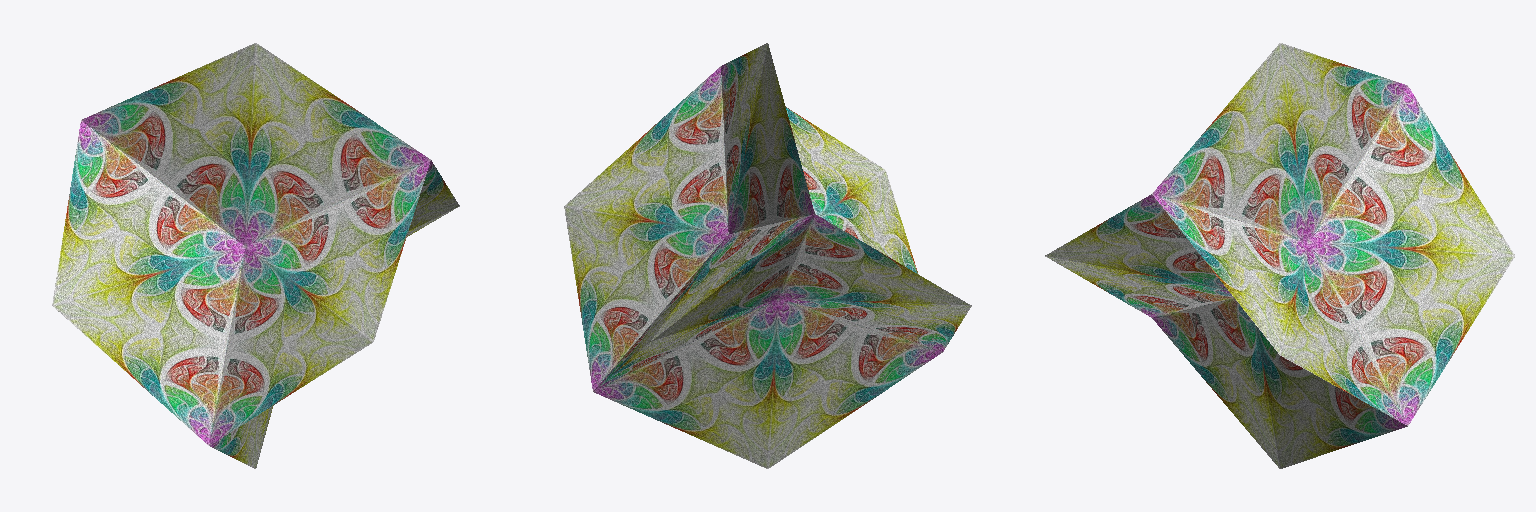
The picture shows the model from 3 angles: view 1: azimuth 30°, elevation 25°; view 2: azimuth 150°, elevation 25°; view 3: azimuth 270°, elevation 25°; orthographic projection.
Bounding box in the file's own units: 2.24 × 2.24 × 2.24.
1 materials, 1 textured.